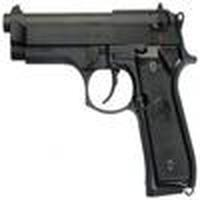gun: (2, 5, 194, 196)
